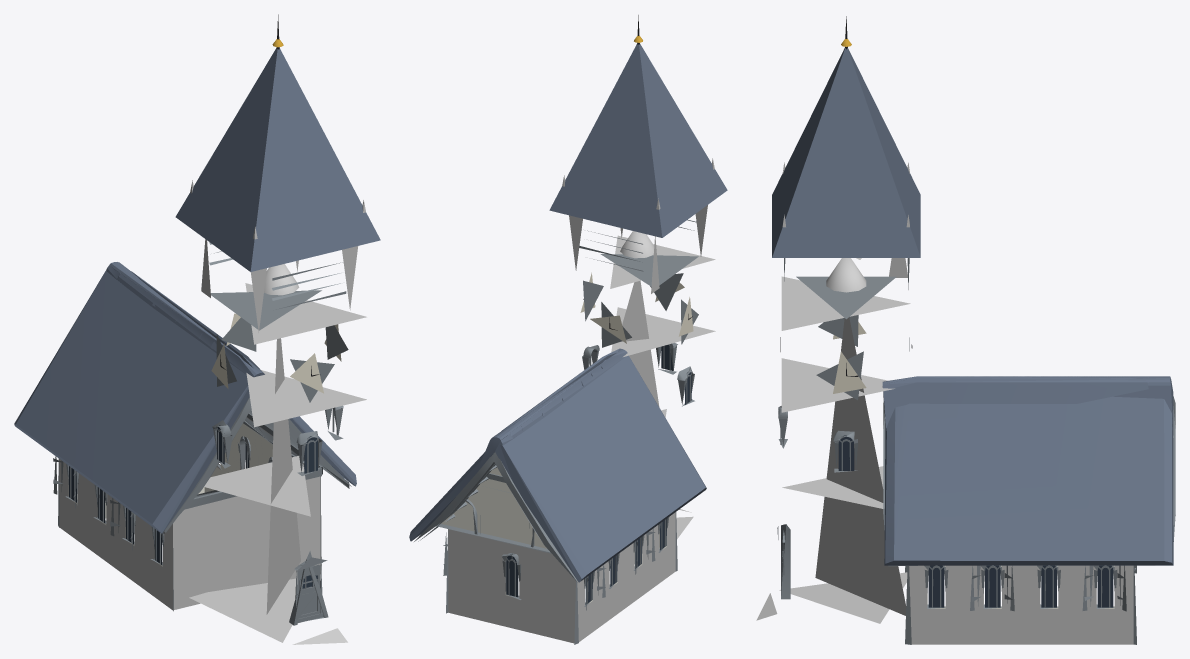
The model's file is generated.clock_tower.gltf.
The picture shows the model from 3 angles, left to right: view 1: azimuth 30°, elevation 25°; view 2: azimuth 150°, elevation 25°; view 3: azimuth 270°, elevation 25°; orthographic projection. The views are drawn at different scales.
Parts seen in each view (by area): view 1: lod; view 2: lod; view 3: lod.
Part boxes in pixels (x1=…): lod: x1=14, y1=14, x2=380, y2=644; lod: x1=409, y1=15, x2=727, y2=644; lod: x1=756, y1=16, x2=1175, y2=644.
Bounding box in the file's own units: 8.25 × 23.3 × 14.89.
